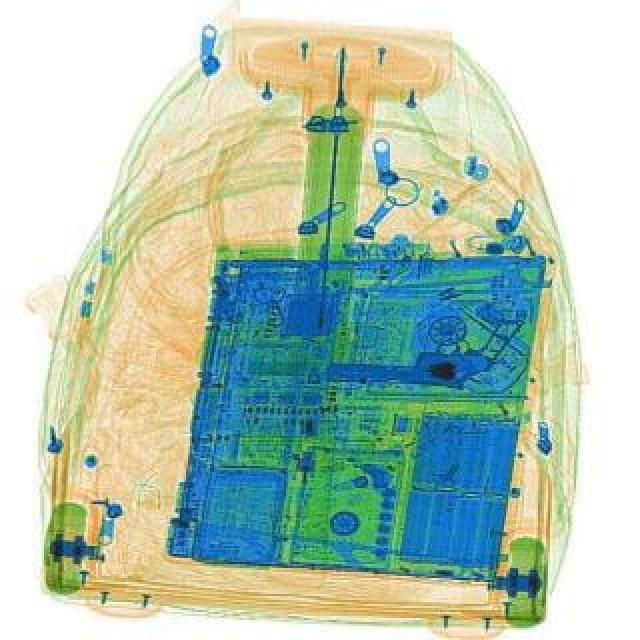gun: (324, 320, 524, 388)
